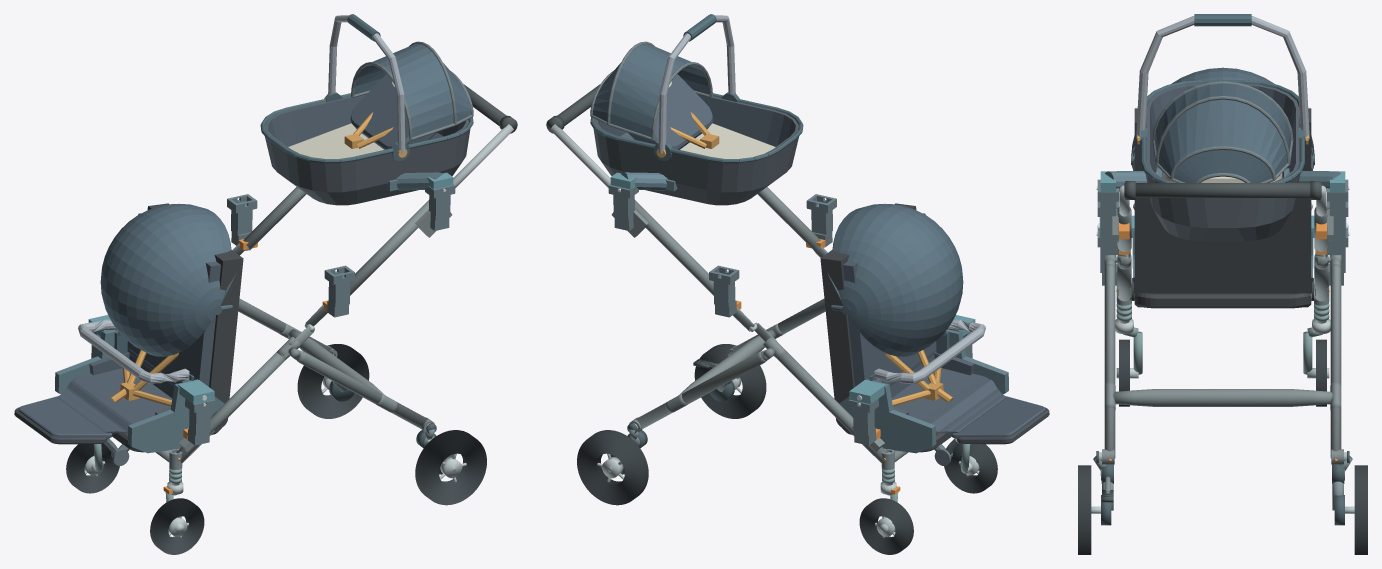
The model's file is D06_w550_state1_wheel_S.glb.
The picture shows the model from 3 angles, left to right: view 1: azimuth 30°, elevation 25°; view 2: azimuth 150°, elevation 25°; view 3: azimuth 270°, elevation 25°; orthographic projection. The views are drawn at different scales.
Parts seen in each view (by area): view 1: D06_Lower, D06_Upper, D06_Lower_Mount_L, RL_tire.002, RR_tire.002, FL_tire.002, FR_tire.002, V46_rear_leg_-1.003, main_lower_-1.003, main_upper_-1.003, Universal_Cabin_Receiver_M_-1, Universal_Cabin_Receiver_M_1 (+8 smaller); view 2: D06_Lower, D06_Upper, D06_Lower_Mount_L, RR_tire.002, RL_tire.002, FR_tire.002, FL_tire.002, V46_rear_leg_1.003, main_lower_1.003, main_upper_1.003, Universal_Cabin_Receiver_M_1, Universal_Cabin_Receiver_M_-1 (+8 smaller); view 3: D06_Upper, D06_Lower, V46_rearbar.003, round_handle.002, V46_rear_leg_1.003, V46_rear_leg_-1.003, D06_Upper_Mount_H, RL_tire.002, RR_tire.002, Universal_Cabin_Receiver_H_1, Universal_Cabin_Receiver_H_-1, FL_tire.002 (+10 smaller).
Boxes of the visible parts, x1,y1,x2,y2 form: D06_Lower: (14,203,243,465); D06_Upper: (260,14,473,205); D06_Lower_Mount_L: (55,315,224,453); RL_tire.002: (415,430,486,505); RR_tire.002: (297,344,369,418); FL_tire.002: (150,498,204,554); FR_tire.002: (66,443,119,493); V46_rear_leg_-1.003: (297,351,427,429); main_lower_-1.003: (176,352,288,463); main_upper_-1.003: (350,200,428,295); Universal_Cabin_Receiver_M_-1: (324,265,354,317); Universal_Cabin_Receiver_M_1: (227,194,257,245); D06_Lower: (820,203,1049,465); D06_Upper: (590,14,803,205); D06_Lower_Mount_L: (839,315,1008,453); RR_tire.002: (577,430,648,505); RL_tire.002: (694,344,766,418); FR_tire.002: (859,498,913,554); FL_tire.002: (944,443,997,493); V46_rear_leg_1.003: (636,351,766,429); main_lower_1.003: (775,352,887,463); main_upper_1.003: (635,200,713,295); Universal_Cabin_Receiver_M_1: (709,265,739,317); Universal_Cabin_Receiver_M_-1: (806,194,836,246); D06_Upper: (1136,14,1309,240); D06_Lower: (1131,67,1314,308); V46_rearbar.003: (1113,389,1332,406); round_handle.002: (1124,183,1321,197); V46_rear_leg_1.003: (1330,264,1341,458); V46_rear_leg_-1.003: (1104,264,1115,458); D06_Upper_Mount_H: (1096,168,1349,191); RL_tire.002: (1078,465,1091,554); RR_tire.002: (1354,465,1367,554); Universal_Cabin_Receiver_H_1: (1327,179,1348,239); Universal_Cabin_Receiver_H_-1: (1097,179,1118,239); FL_tire.002: (1119,339,1129,406).
Size of the model in its own units: 1.34 by 1.28 by 0.6471.
